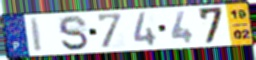4: (132, 11, 159, 48), (170, 10, 195, 45)
7: (197, 6, 226, 46), (97, 12, 124, 50)
I: (29, 16, 44, 53)
S: (56, 14, 90, 52)
